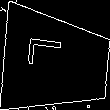L_E: (35, 44, 77, 80)
